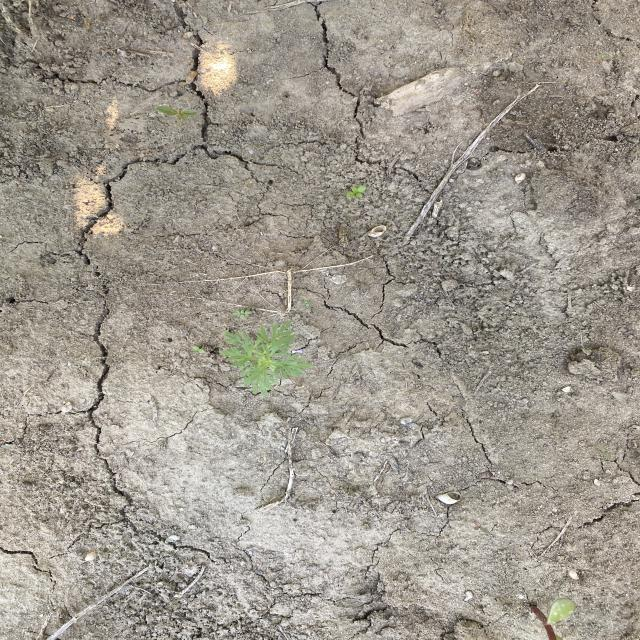Ragweed: (216, 317, 318, 399)
